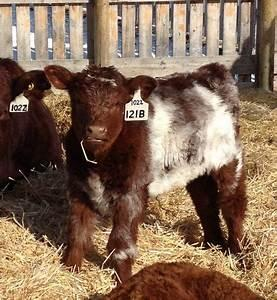cow: (42, 61, 248, 284), (0, 55, 64, 193)
